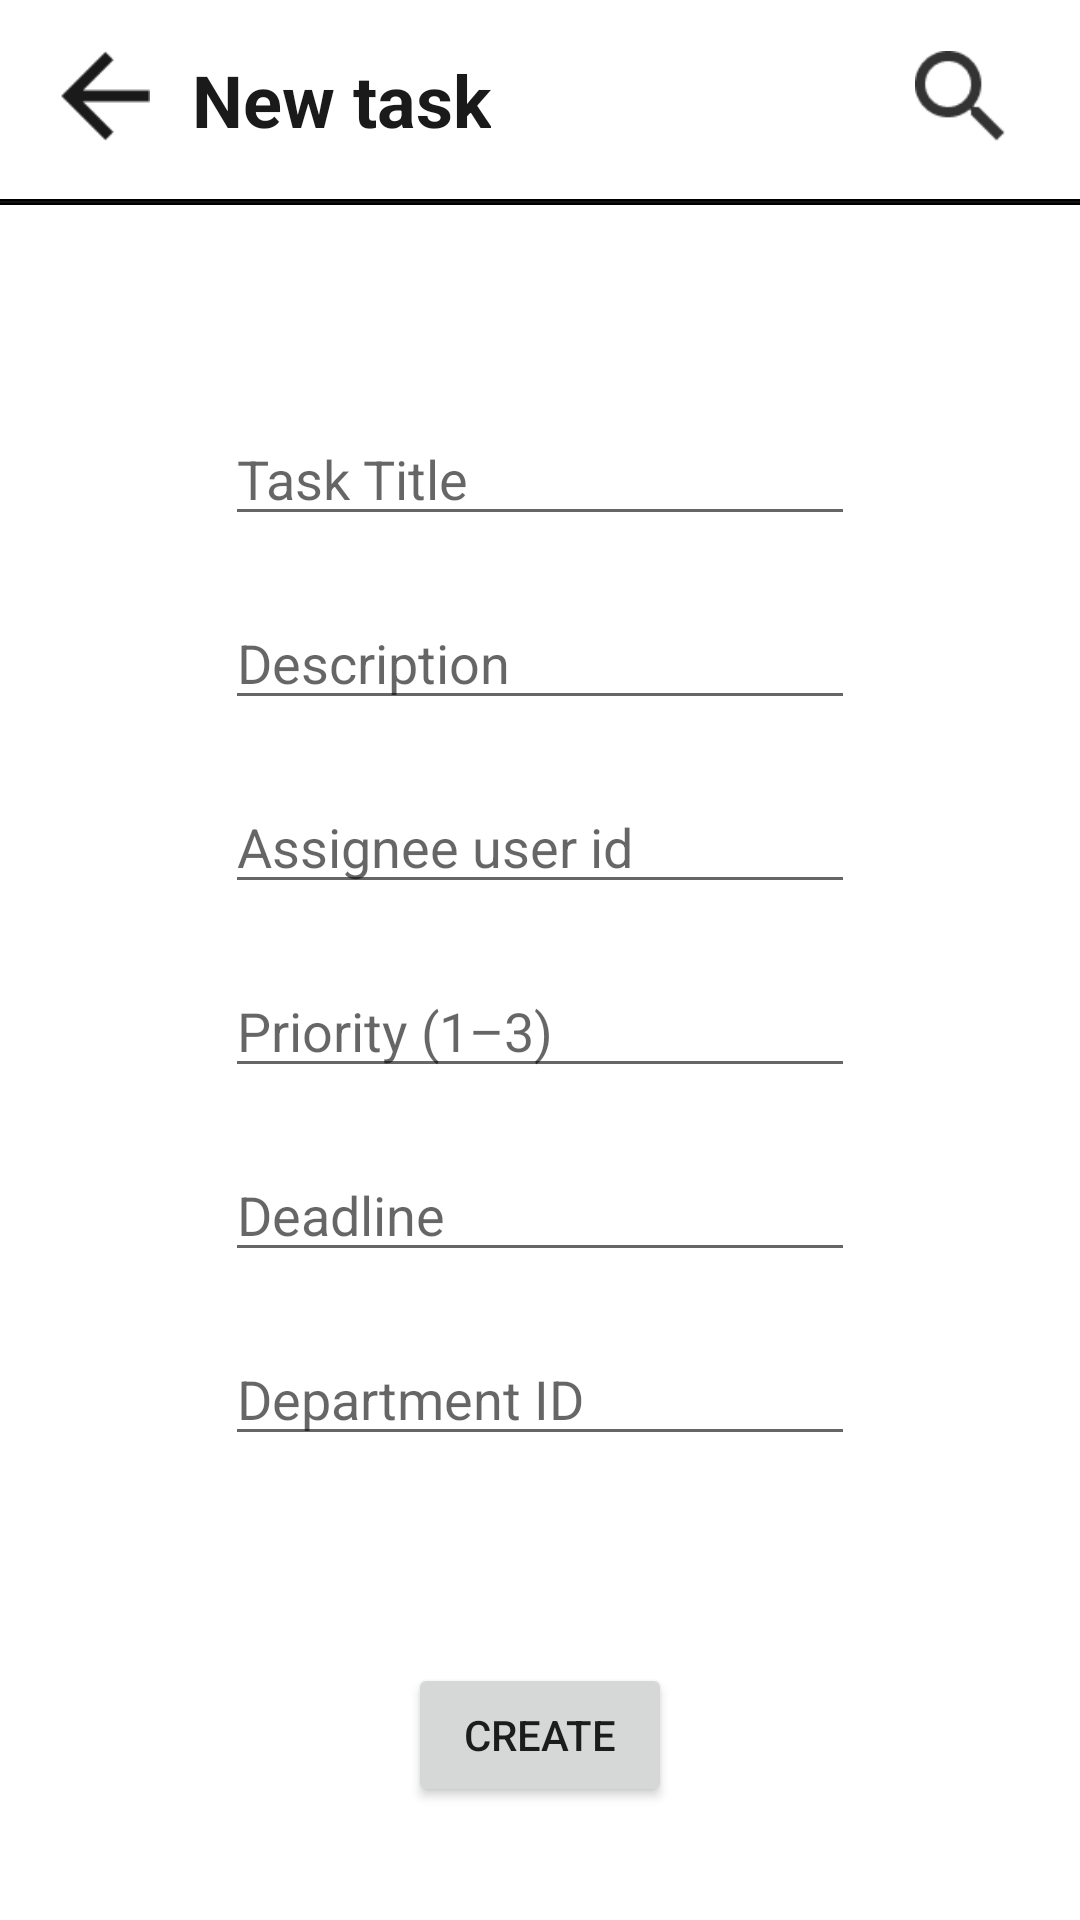

Where to tap for icons on this 1080 x 1920 app screen, as point (x, y):
backbuttonicon: point (105, 96)
searchicon: point (960, 96)
